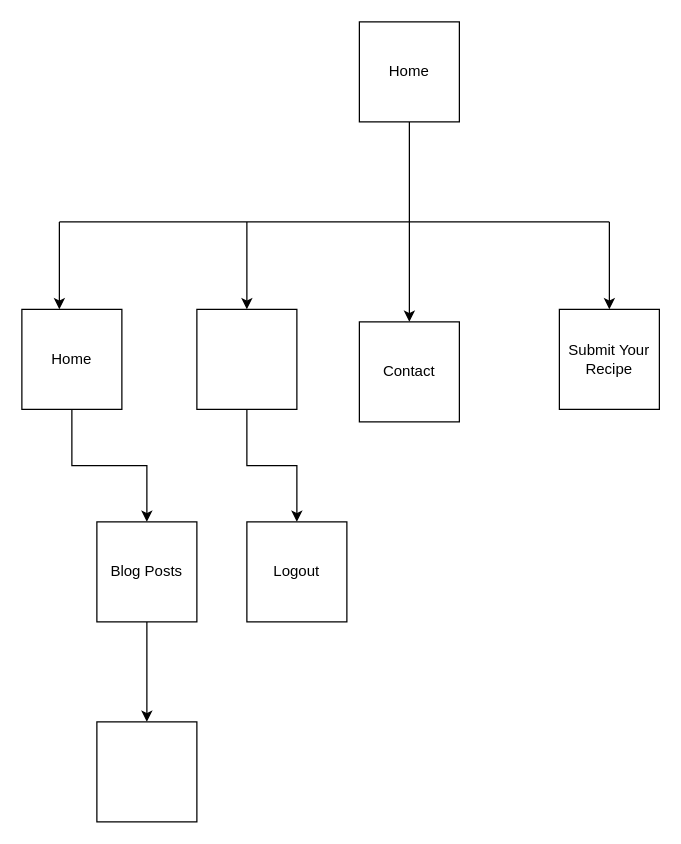
The diagram is 681 pixels wide and 844 high, and some of its shapes have lost their labels. Each missing label, with the box of its shape:
Comment/ Like Posts: (96, 721, 197, 822)
Login/Signup: (196, 308, 297, 409)
